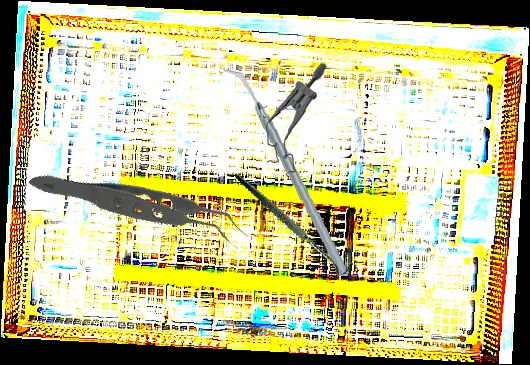Chopper: (223, 59, 351, 284)
Hook Surgical: (234, 147, 355, 298)
Speculum: (260, 62, 334, 180)
Tissue Forceps: (26, 97, 253, 323)
